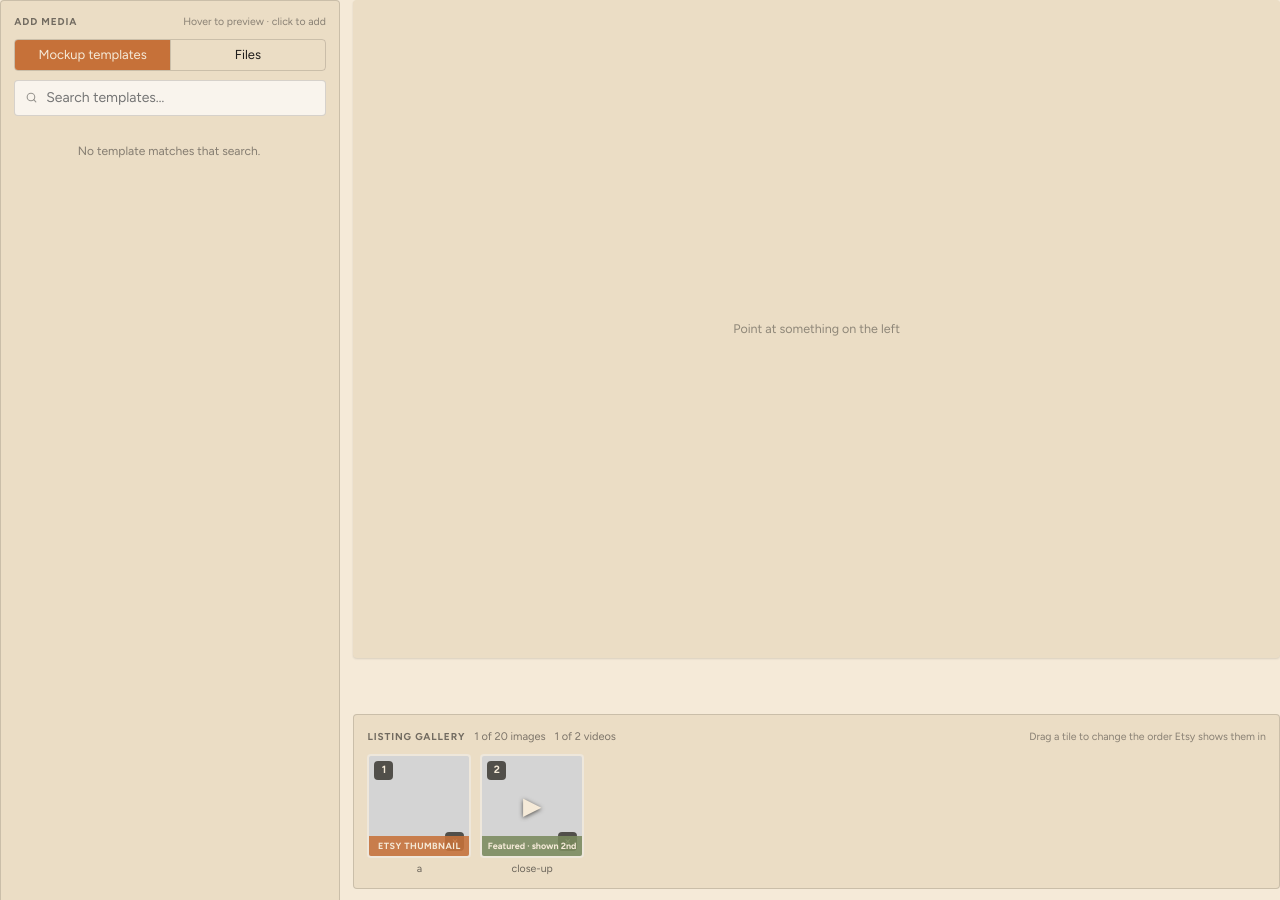
ImagesTab's own files (./) and videos › shows the focused video's own notes under the preview -- Etsy strips its sound
This screenshot has width=1280, height=900.
Click the button "Files".
click(247, 55)  # box [170,40,325,70]
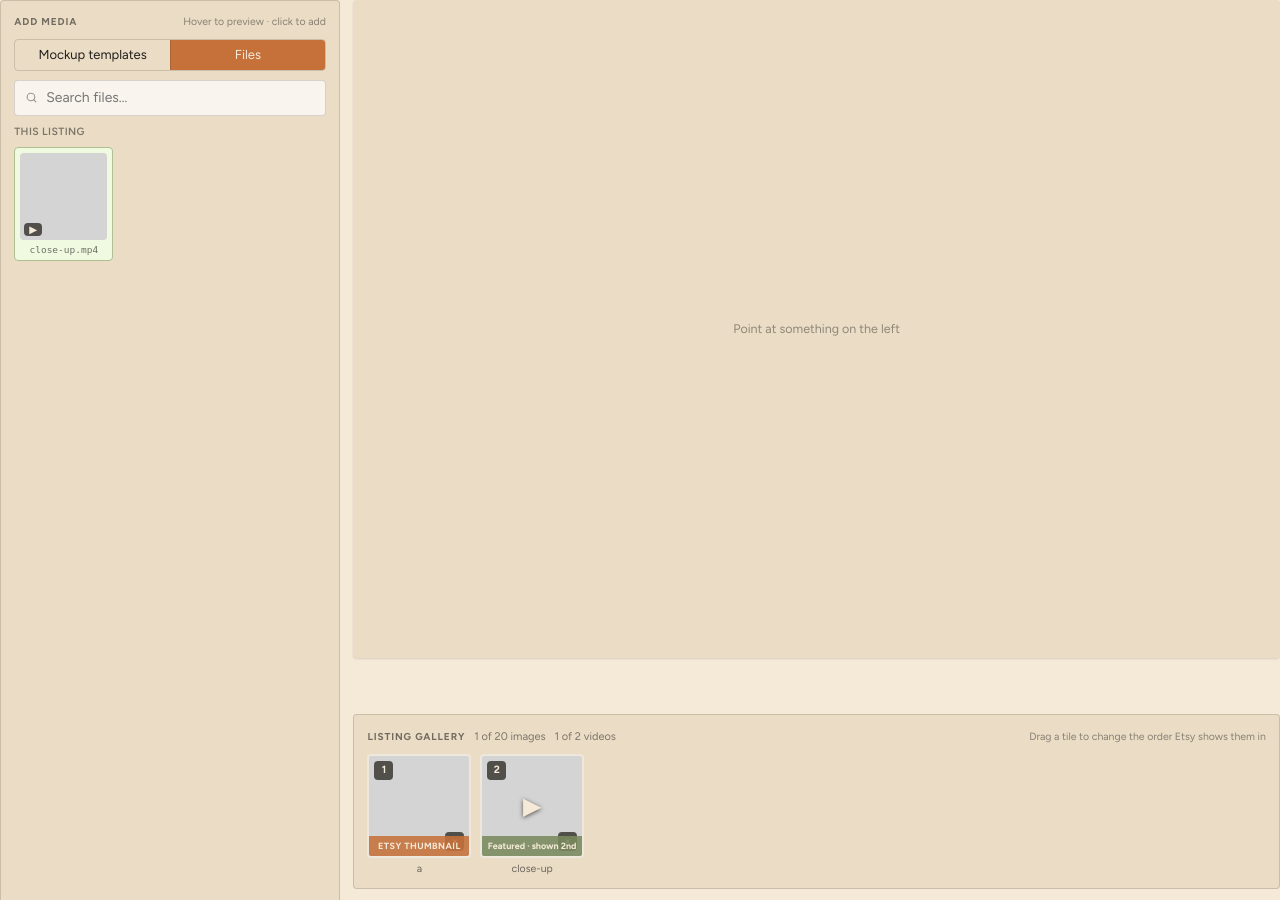
Hover over the button "▶ close-up.mp4".
mouse_move(64, 204)  # box [14,147,113,261]
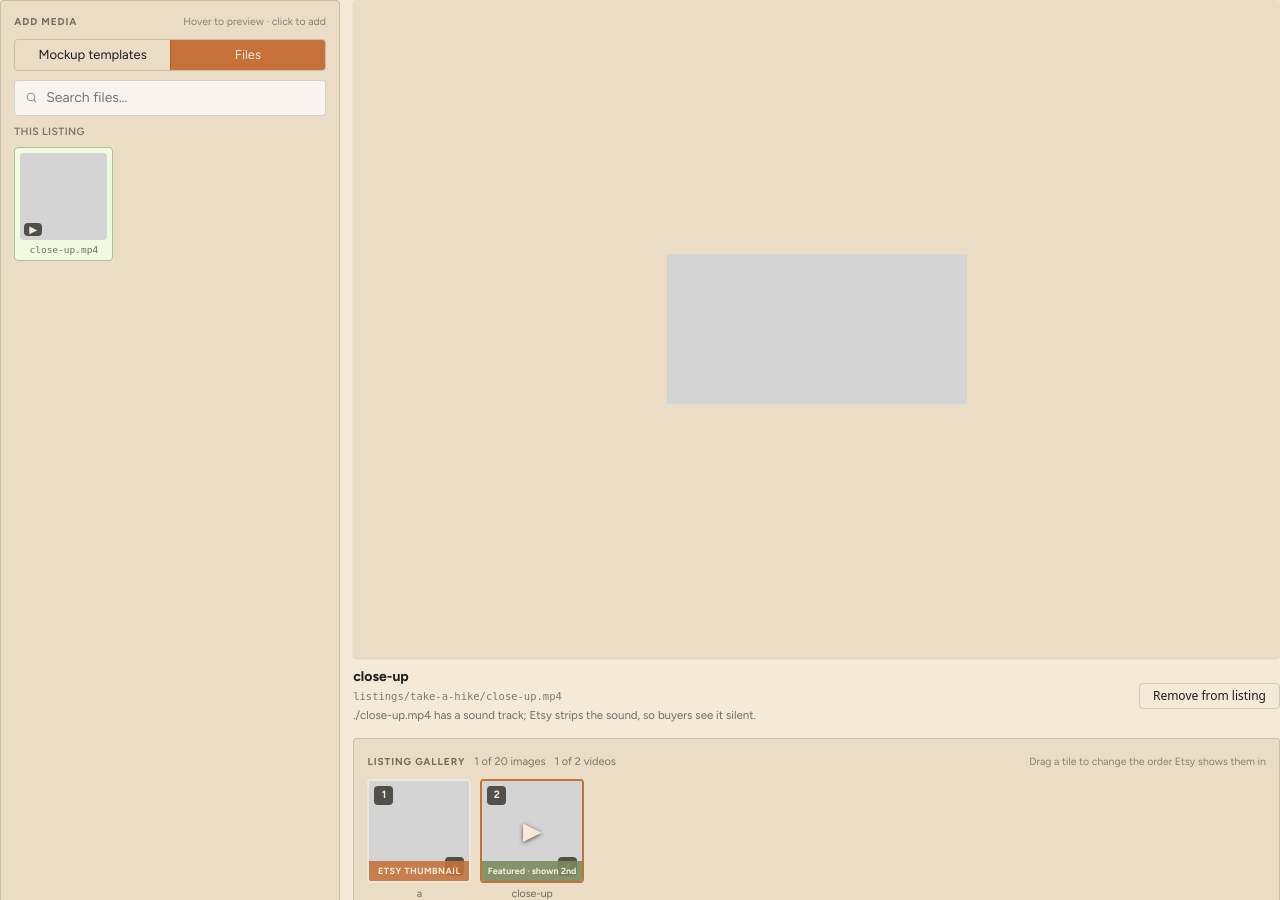
Check: the element that starts with "close-up" does not show "other", box [353,666,1279,725]
Check: the element that starts with "close-up" shows "./close-up.mp4 has a sound track; Etsy strips the sound, so buyers see it silent.", box [353,708,756,722]
